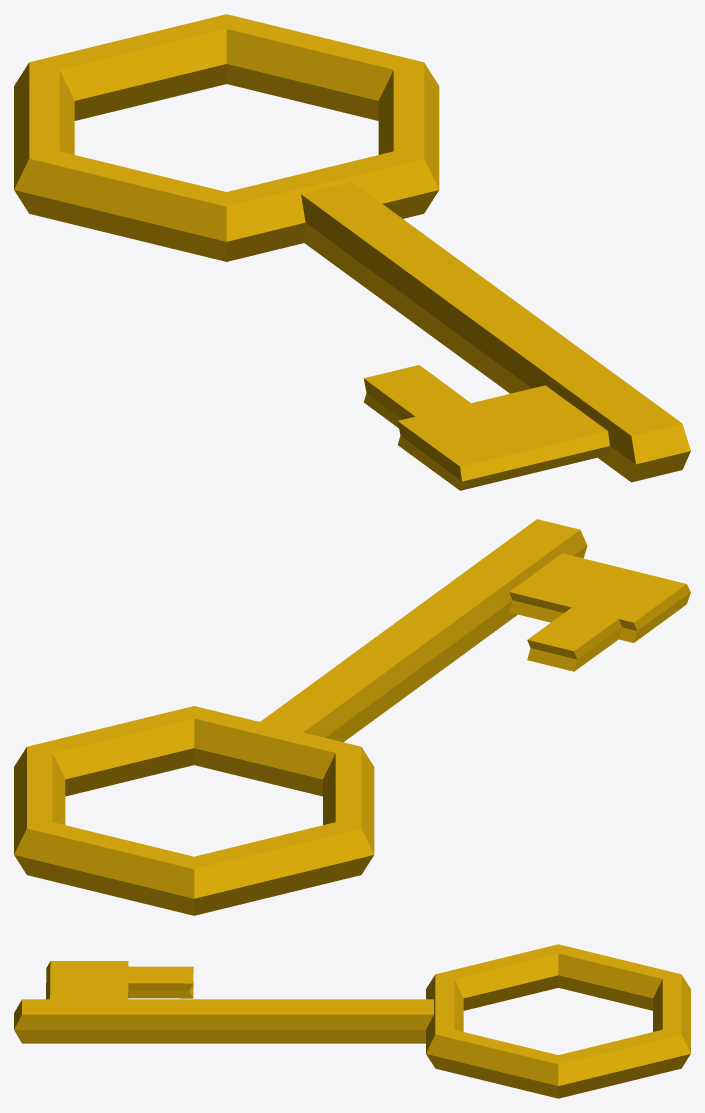
Rendered from Key.fbx.
3 views of the same model, one above another, from view 1: azimuth 30°, elevation 25°; view 2: azimuth 150°, elevation 25°; view 3: azimuth 270°, elevation 25° (orthographic). The views are drawn at different scales.
Parts seen in each view (by area): view 1: Torus.001; view 2: Torus.001; view 3: Torus.001.
Boxes of the visible parts, box(x1,y1,x2,y2) form: Torus.001: box(14, 14, 690, 490); Torus.001: box(14, 519, 690, 915); Torus.001: box(14, 944, 690, 1098).
Size of the model in its own units: 7 by 0.866 by 15.48.
